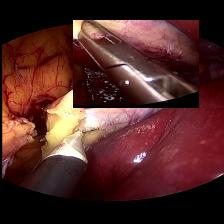Grasper: (72, 20, 198, 108)
Hook: (50, 125, 100, 162)
